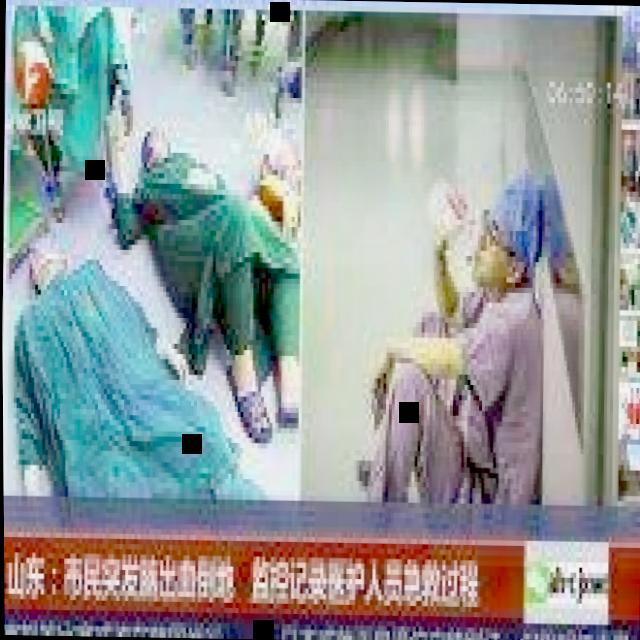Fall-Detected: (1, 164, 284, 504)
